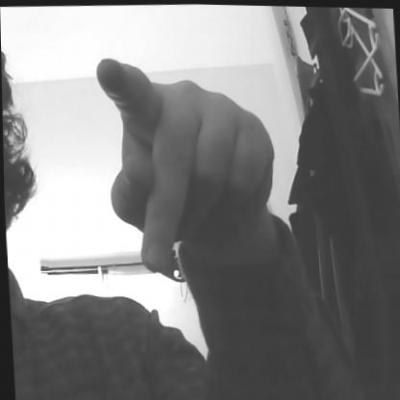hand: (96, 53, 286, 278)
